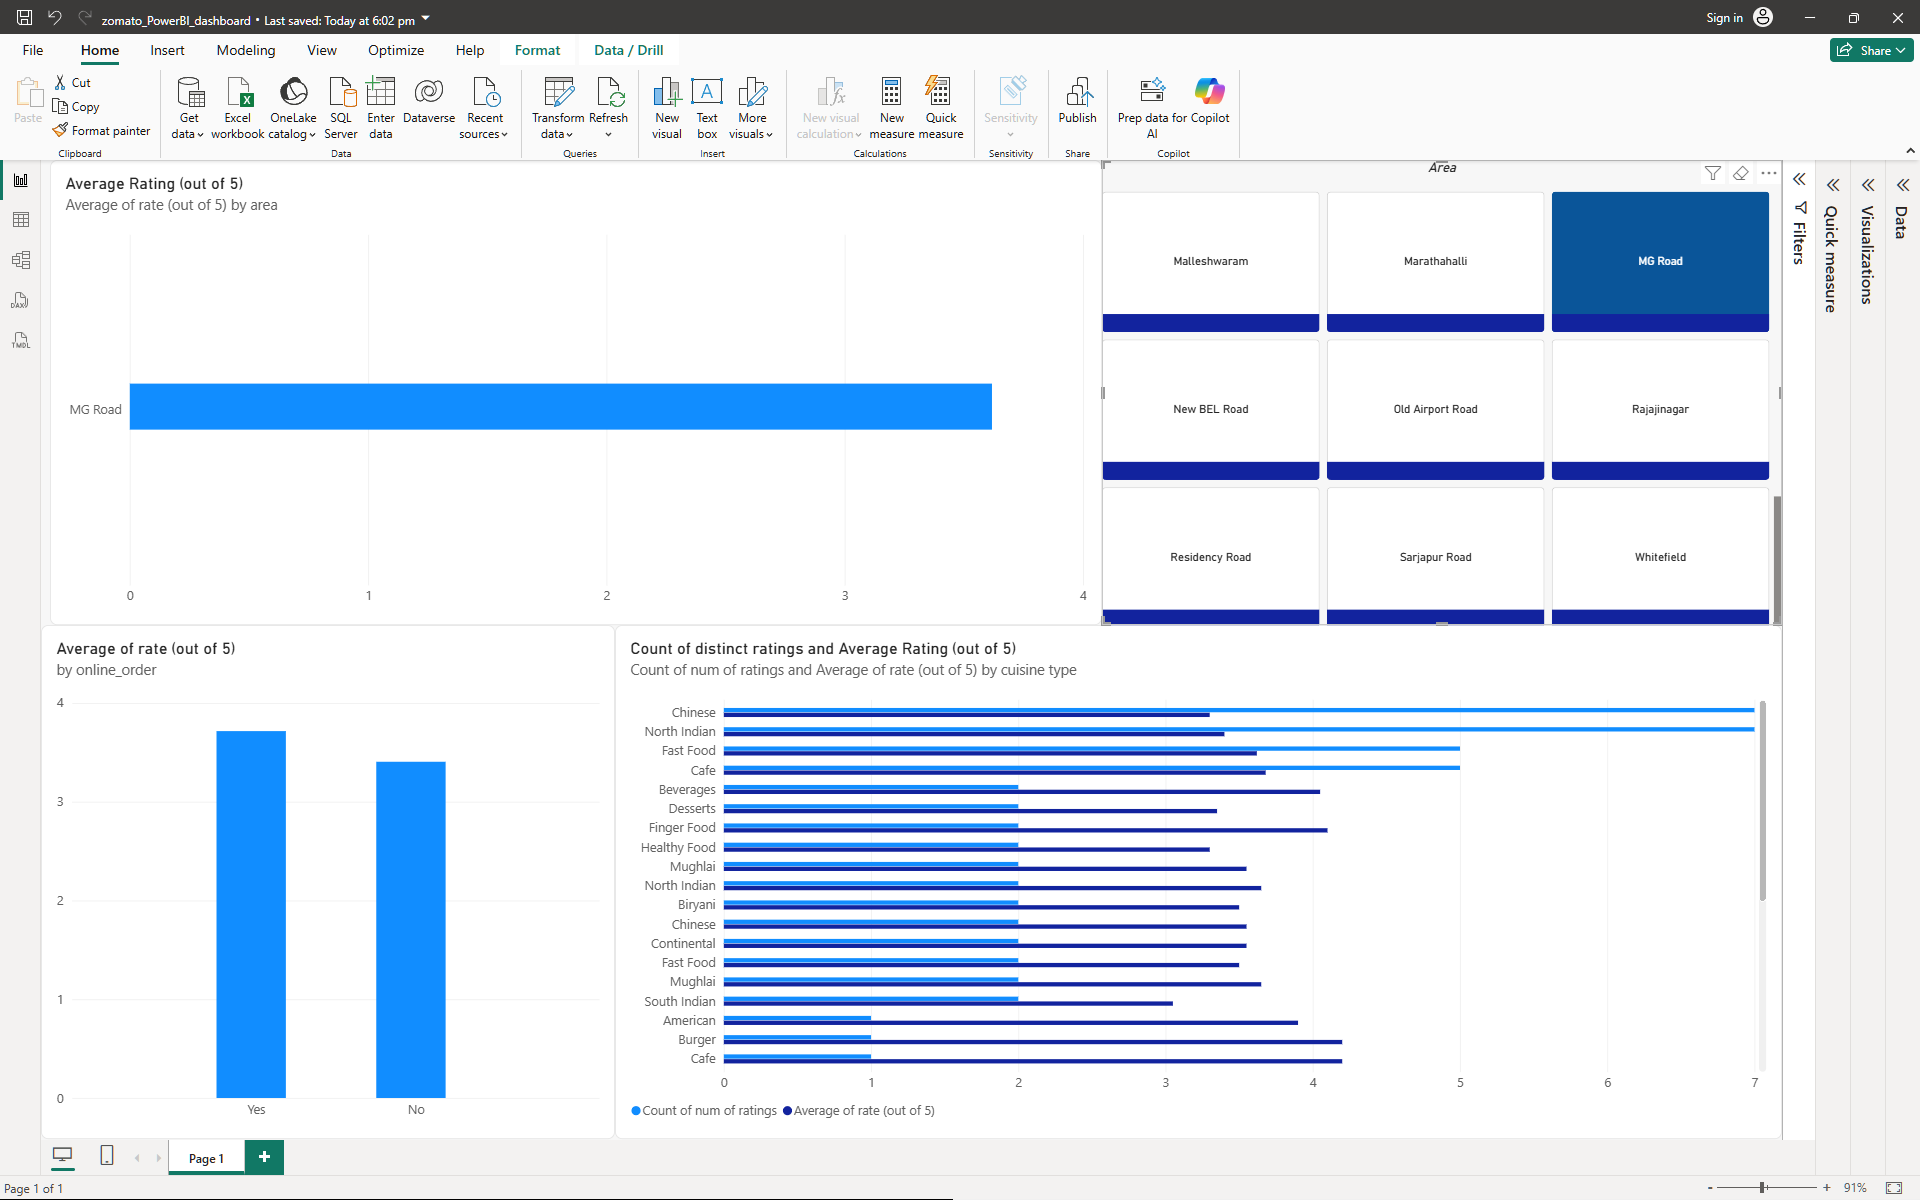

Layout of this report page (visuals, bound fields, positions):
{"tool":"powerbi","page":{"name":"Page 1","canvas":[1920,1080],"ordinal":0},"visuals":[{"type":"barChart","title":"Average Rating (out of 5)","fields":{"Category":["zomato_cleaned_file.area"],"Y":["Avg(zomato_cleaned_file.rate (out of 5))"]},"box":[9.9,0,1160.2,512.7],"z":0},{"type":"clusteredBarChart","title":"Count of distinct ratings and Average Rating (out of 5)","fields":{"Category":["zomato_cleaned_file.cuisine_type"],"Y":["Count(zomato_cleaned_file.num of ratings)","Avg(zomato_cleaned_file.rate (out of 5))"]},"box":[633.4,512.7,1286.6,566.6],"z":1000},{"type":"clusteredColumnChart","fields":{"Category":["zomato_cleaned_file.online_order"],"Y":["Avg(zomato_cleaned_file.rate (out of 5))"]},"box":[0,512.7,633.4,566.6],"z":2000},{"type":"advancedSlicerVisual","title":"Area","fields":{"Values":["zomato_cleaned_file.area"]},"box":[1170.2,0,749.8,512.7],"z":3000}]}

Visuals, with their boxes on the page's 1920x1080 design canvas (x1, y1, x2, y2). These are canvas units, not pixel positions in the 1920x1200 screenshot, which may show the page scaled, cropped or inside an application window:
"Average Rating (out of 5)" barChart: box(10, 0, 1170, 513)
"Count of distinct ratings and Average Rating (out of 5)" clusteredBarChart: box(633, 513, 1920, 1079)
clusteredColumnChart - zomato_cleaned_file.online_order x Avg(zomato_cleaned_file.rate (out of 5)): box(0, 513, 633, 1079)
"Area" advancedSlicerVisual: box(1170, 0, 1920, 513)
